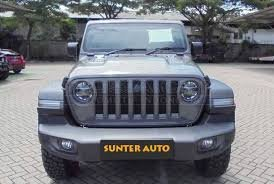mobil: (32, 7, 240, 179)
